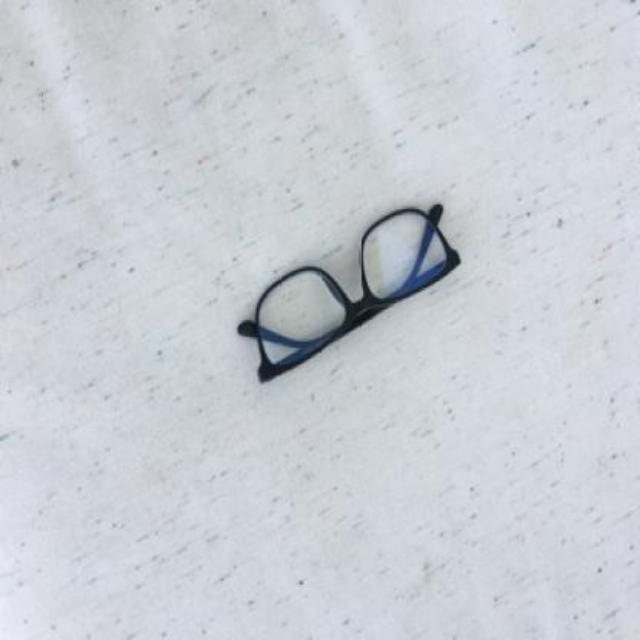mask: (236, 202, 460, 382)
